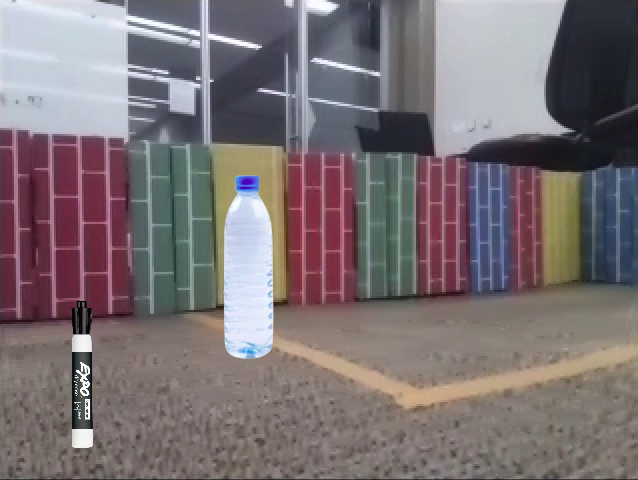pen: (488, 211, 510, 358)
